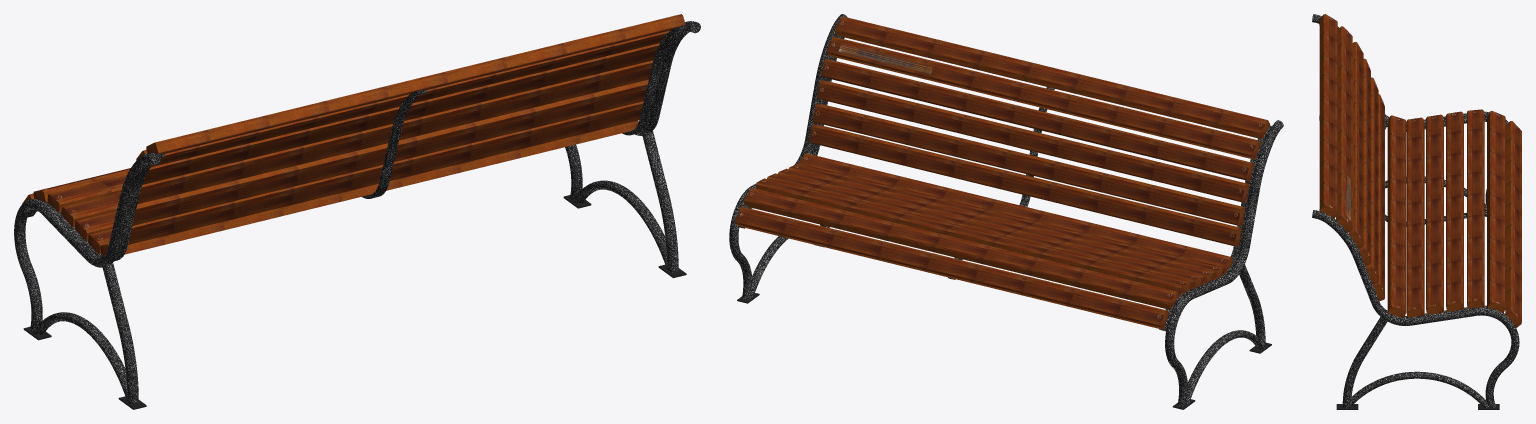
The picture shows the model from 3 angles, left to right: view 1: azimuth 30°, elevation 25°; view 2: azimuth 150°, elevation 25°; view 3: azimuth 270°, elevation 25°; orthographic projection. The views are drawn at different scales.
Parts seen in each view (by area): view 1: mesh20_mesh20-geometry, mesh15_mesh15-geometry, mesh6_mesh6-geometry, mesh1_mesh1-geometry, mesh10_mesh10-geometry, mesh19_mesh19-geometry; view 2: mesh20_mesh20-geometry, mesh15_mesh15-geometry, mesh6_mesh6-geometry, mesh24_mesh24-geometry, mesh19_mesh19-geometry; view 3: mesh20_mesh20-geometry, mesh6_mesh6-geometry, mesh15_mesh15-geometry.
Part boxes in pixels (x1=…): mesh20_mesh20-geometry: x1=22, y1=14, x2=685, y2=256; mesh15_mesh15-geometry: x1=14, y1=153, x2=160, y2=404; mesh6_mesh6-geometry: x1=565, y1=21, x2=700, y2=272; mesh1_mesh1-geometry: x1=362, y1=89, x2=426, y2=198; mesh10_mesh10-geometry: x1=622, y1=26, x2=686, y2=135; mesh19_mesh19-geometry: x1=28, y1=153, x2=164, y2=261; mesh20_mesh20-geometry: x1=735, y1=16, x2=1270, y2=329; mesh15_mesh15-geometry: x1=1165, y1=120, x2=1283, y2=406; mesh6_mesh6-geometry: x1=729, y1=14, x2=847, y2=299; mesh24_mesh24-geometry: x1=838, y1=44, x2=932, y2=73; mesh19_mesh19-geometry: x1=1159, y1=125, x2=1271, y2=331; mesh20_mesh20-geometry: x1=1319, y1=14, x2=1521, y2=327; mesh6_mesh6-geometry: x1=1312, y1=210, x2=1519, y2=408; mesh15_mesh15-geometry: x1=1312, y1=14, x2=1508, y2=211.
Size of the model in its own units: 0.8416 by 0.3918 by 0.3718.
